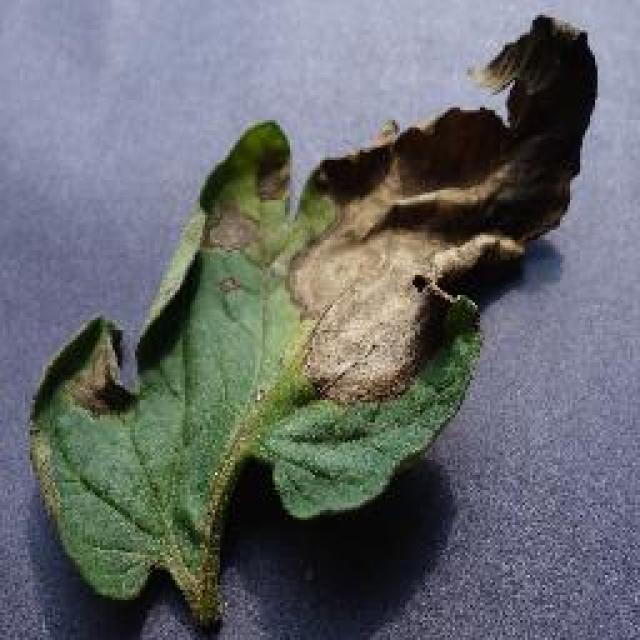Tomato_Late_Blight: (43, 6, 598, 500)
